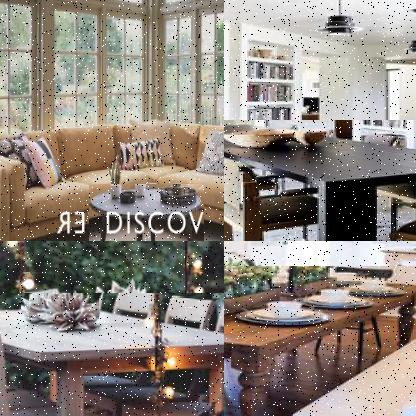table: (224, 266, 415, 415), (0, 293, 223, 415), (224, 119, 415, 240), (88, 184, 204, 240)
